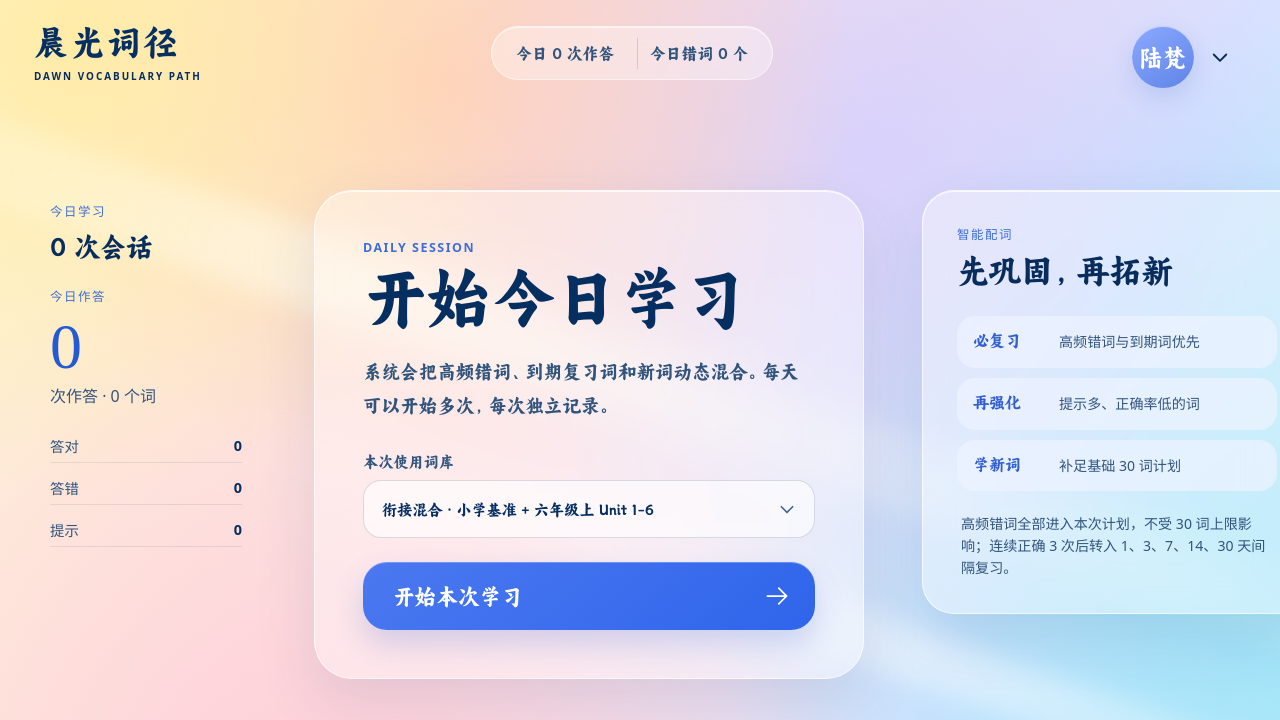
Scenario: 晨光词径每日学习会话 › 删除错词也必须通过家长密码，并清除其强制复习统计
Click the button with aria-label "打开个人菜单" at (1178, 57), box top-left (1126, 26), bottom-right (1230, 88)
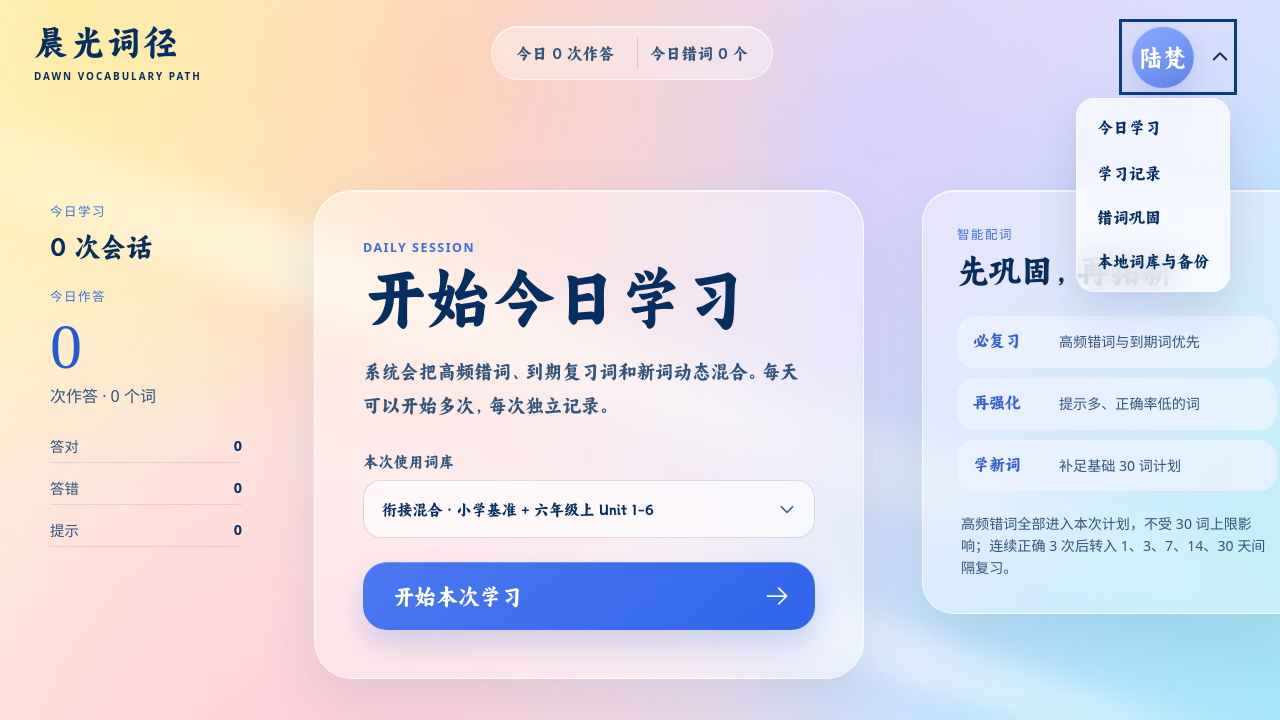
Click the button "错词巩固" at (1153, 217), box top-left (1085, 195), bottom-right (1221, 239)
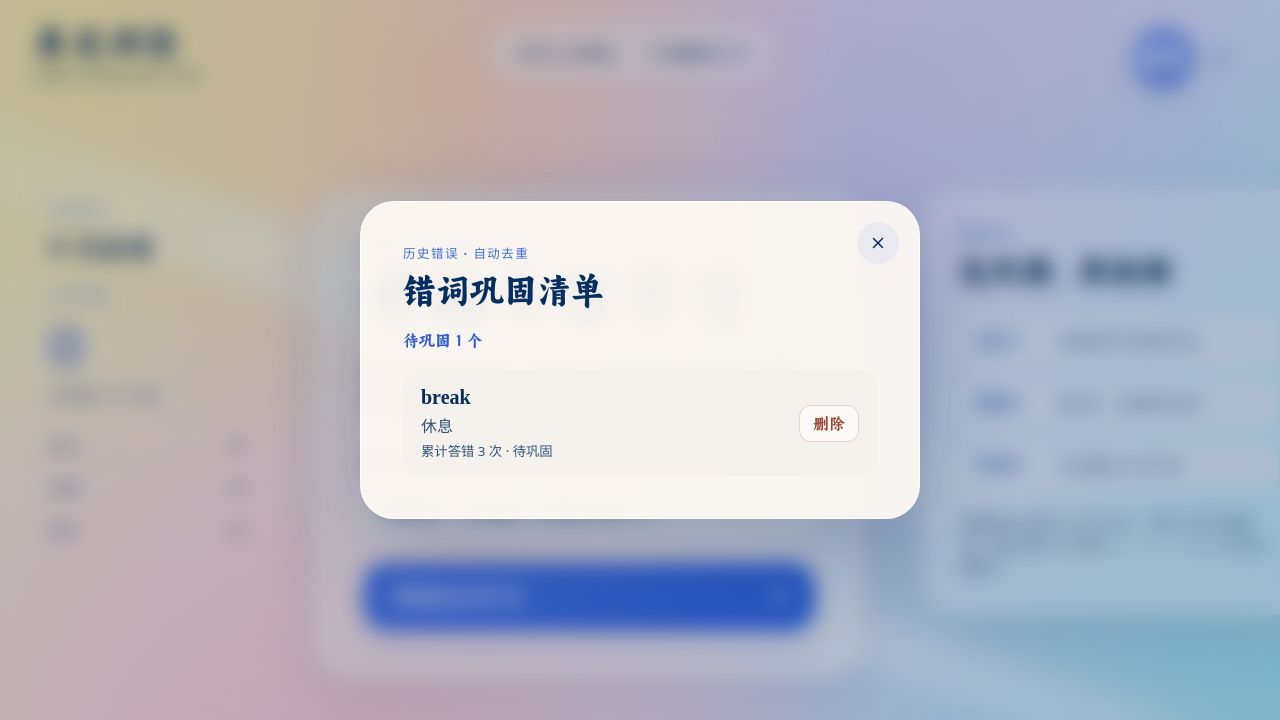
Click the button with aria-label "删除错词 break" at (829, 423), box top-left (799, 404), bottom-right (859, 442)
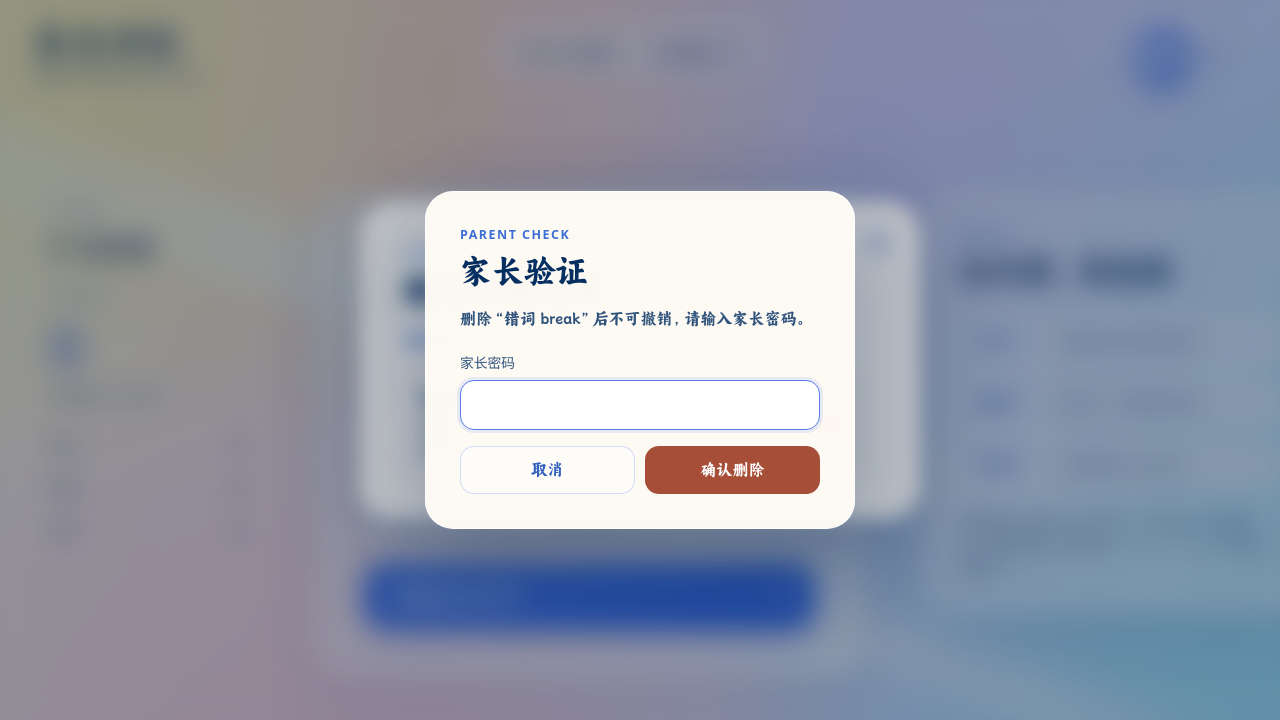
Type "99bill" into the password field labelled "家长密码" at (640, 405), box top-left (460, 380), bottom-right (820, 430)
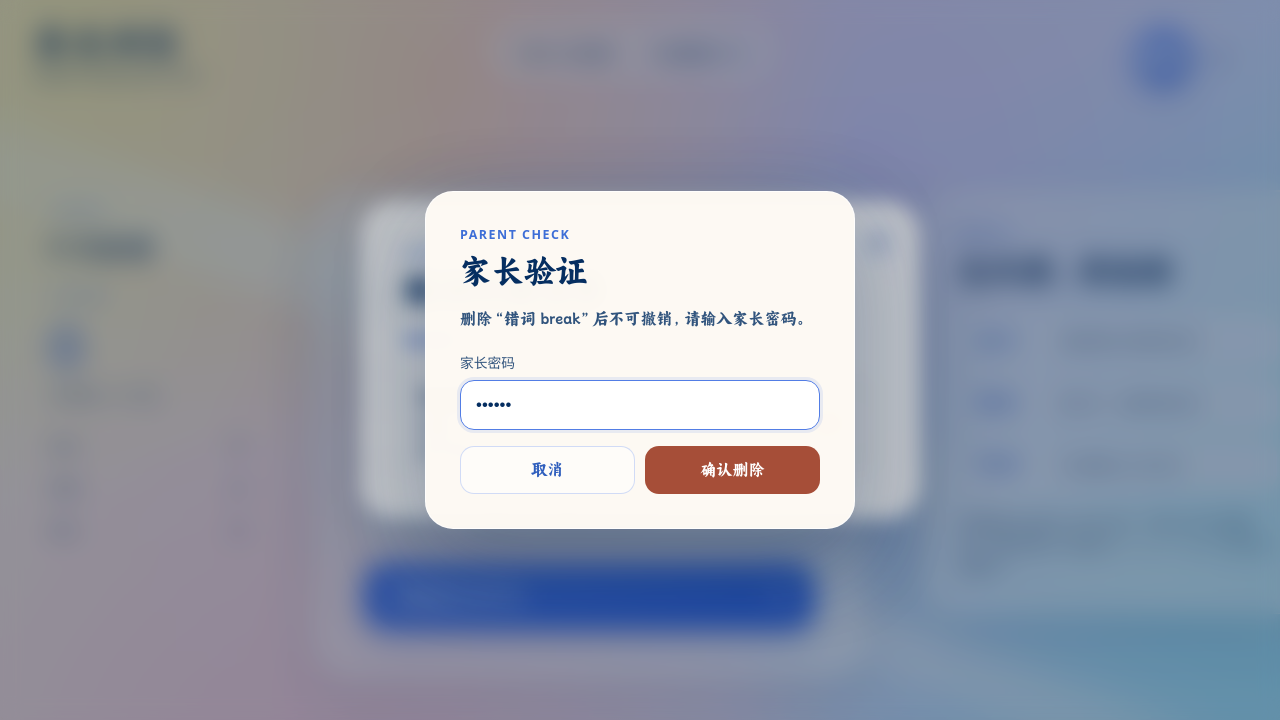
Click the button "确认删除" at (732, 470), box top-left (645, 446), bottom-right (820, 494)
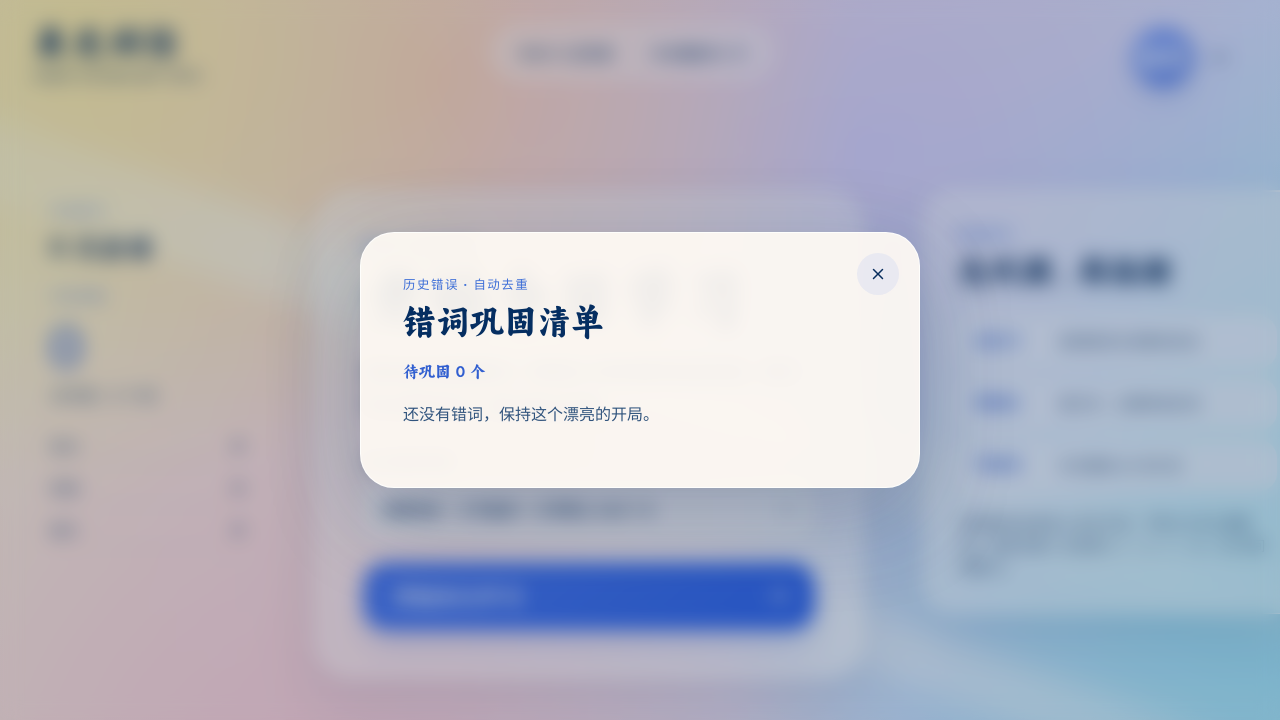
Check: the text "break" is gone
